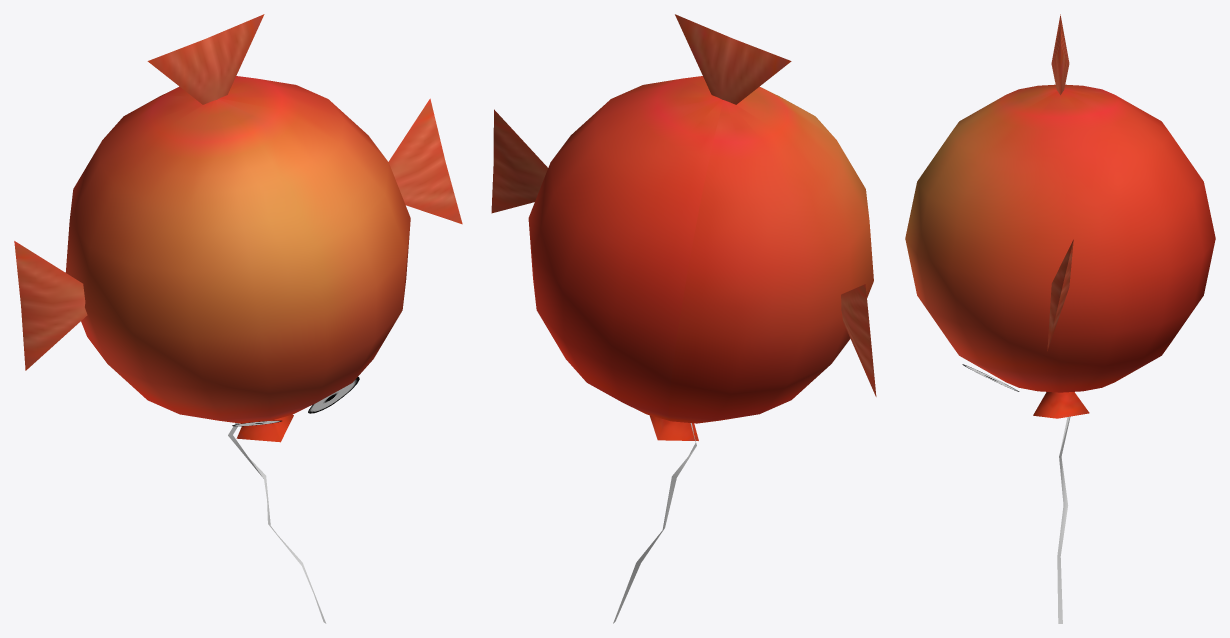
File: genus_0.glb
3 renders of one model, left to right at view 1: azimuth 30°, elevation 25°; view 2: azimuth 150°, elevation 25°; view 3: azimuth 270°, elevation 25°, orthographic. The views are drawn at different scales.
Visible parts, largest first — view 1: fish_0, fish_1; view 2: fish_0, fish_1; view 3: fish_0, fish_1.
Boxes of the visible parts, x1=… form: fish_0: x1=14, y1=76, x2=462, y2=623; fish_1: x1=147, y1=14, x2=264, y2=104; fish_0: x1=491, y1=76, x2=876, y2=623; fish_1: x1=675, y1=14, x2=791, y2=104; fish_0: x1=905, y1=84, x2=1215, y2=623; fish_1: x1=1051, y1=14, x2=1069, y2=95.
Size of the model in its own units: 0.476 by 0.6899 by 0.353.
Materials: 3 (2 with a texture image).
